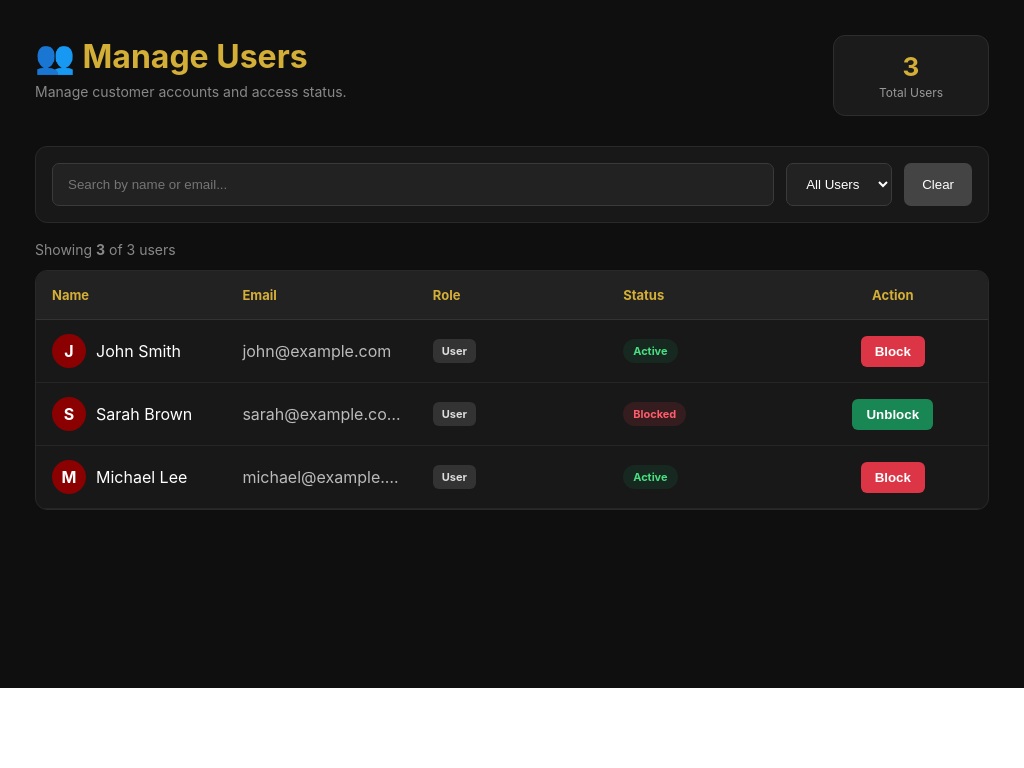
Test: filters users by active status
Check: the text "John Smith" is shown, box [96,341,181,361]
Select "Active" in the dropdown showing "All Users" at (839, 184), box [786,163,892,206]
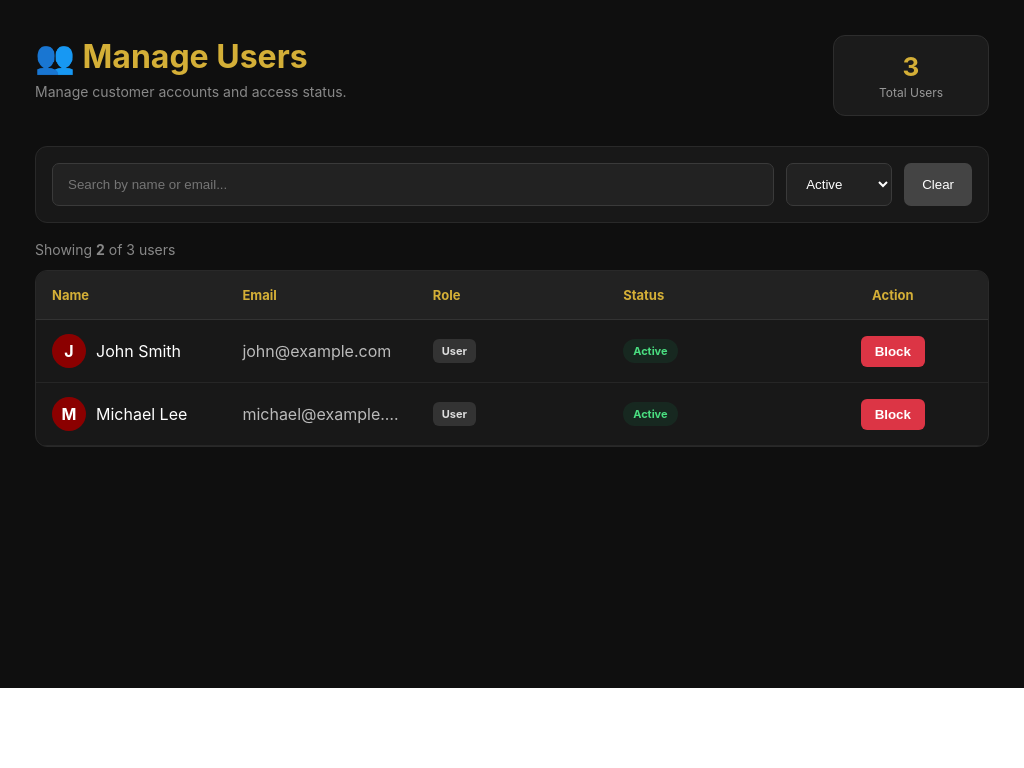
Check: the text "John Smith" is shown, box [96,341,181,361]
Check: the text "Sarah Brown" is gone
